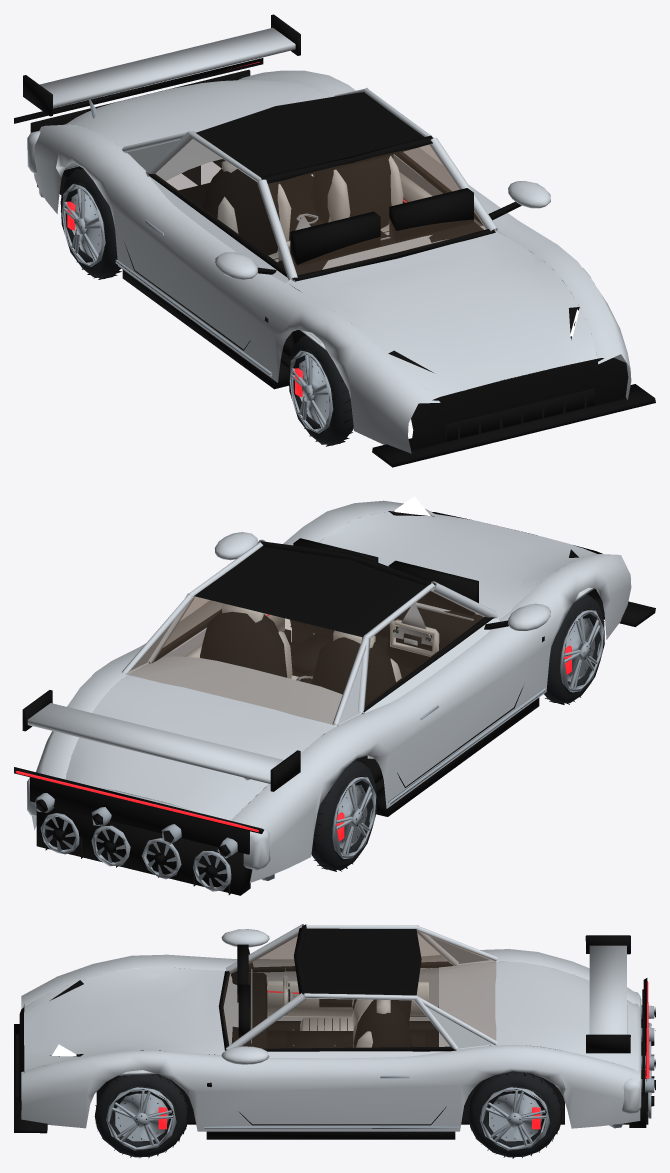
The model's file is DR_Asterion_LOD2.glb.
3 views of the same model, one above another, from view 1: azimuth 30°, elevation 25°; view 2: azimuth 150°, elevation 25°; view 3: azimuth 270°, elevation 25° (orthographic). The views are drawn at different scales.
Parts seen in each view (by area): view 1: DR_Asterion_Roadster__DR_PearlAlloy, DR_Asterion_Roadster__DR_CarbonComposite, DR_Asterion_Roadster__DR_CopperSmokedGlass, AeroWing__DR_PearlAlloy, DR_Asterion_Roadster__DR_IvoryMicrofiber, Wheel_FL__DR_PerformanceRubber, Wheel_RL__DR_BrushedTitanium, Wheel_FL__DR_BrushedTitanium, Wheel_RL__DR_PerformanceRubber, AeroWing__DR_CarbonComposite, DR_Asterion_Roadster__DR_BrushedTitanium; view 2: DR_Asterion_Roadster__DR_PearlAlloy, DR_Asterion_Roadster__DR_CarbonComposite, DR_Asterion_Roadster__DR_CopperSmokedGlass, AeroWing__DR_PearlAlloy, DR_Asterion_Roadster__DR_BrushedTitanium, Wheel_RL__DR_PerformanceRubber, Wheel_FL__DR_PerformanceRubber, Wheel_RL__DR_BrushedTitanium, Wheel_FL__DR_BrushedTitanium, DR_Asterion_Roadster__DR_IvoryMicrofiber, AeroWing__DR_CarbonComposite, DR_Asterion_Roadster__DR_RedLED (+2 smaller); view 3: DR_Asterion_Roadster__DR_PearlAlloy, DR_Asterion_Roadster__DR_CarbonComposite, DR_Asterion_Roadster__DR_CopperSmokedGlass, Wheel_RR__DR_PerformanceRubber, Wheel_FR__DR_PerformanceRubber, AeroWing__DR_PearlAlloy, DR_Asterion_Roadster__DR_IvoryMicrofiber, Wheel_FR__DR_BrushedTitanium, Wheel_RR__DR_BrushedTitanium, DR_Asterion_Roadster__DR_BrushedTitanium, AeroWing__DR_CarbonComposite.
Boxes of the visible parts, x1,y1,x2,y2 form: DR_Asterion_Roadster__DR_PearlAlloy: (27,70,631,453); DR_Asterion_Roadster__DR_CarbonComposite: (14,58,655,467); DR_Asterion_Roadster__DR_CopperSmokedGlass: (153,138,486,279); AeroWing__DR_PearlAlloy: (40,27,295,108); DR_Asterion_Roadster__DR_IvoryMicrofiber: (217,156,431,261); Wheel_FL__DR_PerformanceRubber: (288,335,353,445); Wheel_RL__DR_BrushedTitanium: (62,184,105,266); Wheel_FL__DR_BrushedTitanium: (289,350,333,433); Wheel_RL__DR_PerformanceRubber: (60,168,120,278); AeroWing__DR_CarbonComposite: (23,14,300,116); DR_Asterion_Roadster__DR_BrushedTitanium: (39,189,390,376); DR_Asterion_Roadster__DR_PearlAlloy: (27,500,631,882); DR_Asterion_Roadster__DR_CarbonComposite: (14,511,655,895); DR_Asterion_Roadster__DR_CopperSmokedGlass: (125,587,484,724); AeroWing__DR_PearlAlloy: (27,703,283,783); DR_Asterion_Roadster__DR_BrushedTitanium: (34,548,546,891); Wheel_RL__DR_PerformanceRubber: (311,760,376,869); Wheel_FL__DR_PerformanceRubber: (544,594,604,703); Wheel_RL__DR_BrushedTitanium: (332,777,376,858); Wheel_FL__DR_BrushedTitanium: (560,610,604,692); DR_Asterion_Roadster__DR_IvoryMicrofiber: (184,603,401,758); AeroWing__DR_CarbonComposite: (22,690,300,791); DR_Asterion_Roadster__DR_RedLED: (15,614,269,832); DR_Asterion_Roadster__DR_PearlAlloy: (21,924,641,1131); DR_Asterion_Roadster__DR_CarbonComposite: (14,924,655,1139); DR_Asterion_Roadster__DR_CopperSmokedGlass: (223,930,495,1048); Wheel_RR__DR_PerformanceRubber: (468,1071,561,1157); Wheel_FR__DR_PerformanceRubber: (94,1074,187,1157); AeroWing__DR_PearlAlloy: (589,945,627,1034); DR_Asterion_Roadster__DR_IvoryMicrofiber: (267,981,428,1047); Wheel_FR__DR_BrushedTitanium: (106,1087,176,1150); Wheel_RR__DR_BrushedTitanium: (479,1087,549,1150); DR_Asterion_Roadster__DR_BrushedTitanium: (204,969,654,1128); AeroWing__DR_CarbonComposite: (585,935,630,1053).
Size of the model in its own units: 2.31 by 1.25 by 4.81.
Materials: 9 (1 with a texture image).
